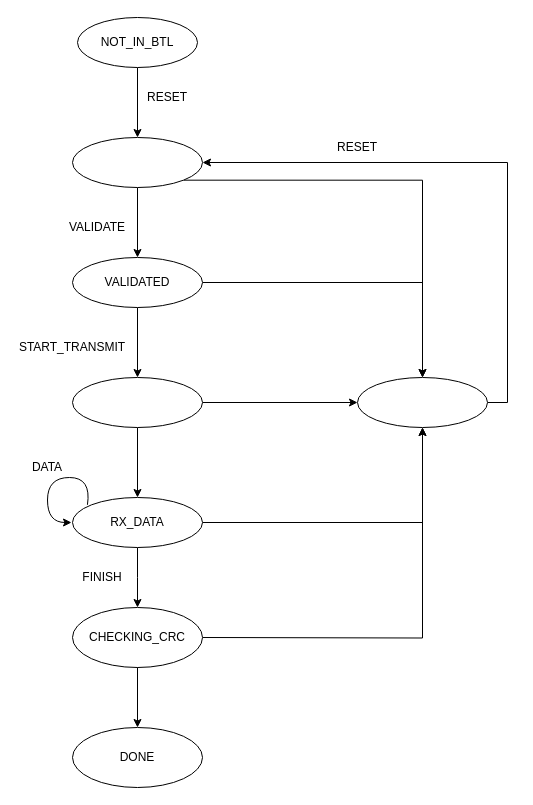
This 533x805 diagram has some shape labels left out. The shapes that lost their labels are listed below. From the top down, each one's centre as x and y in pixels, then its label:
point 137,162: IDLE
point 137,402: ERASING
point 422,402: ERROR
